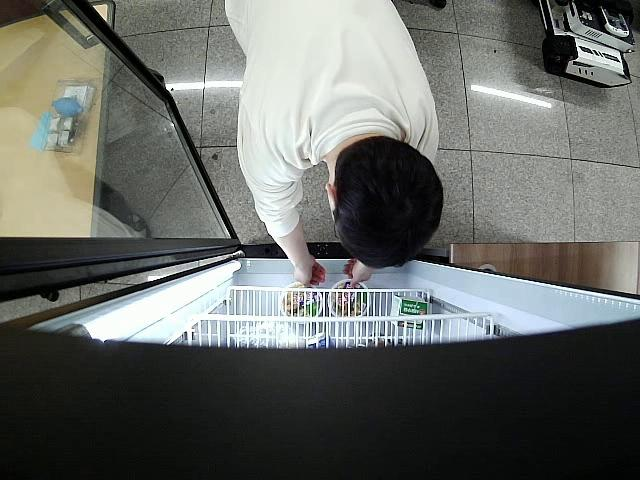00_hand: (292, 253, 329, 287), (344, 261, 374, 289)
09_yukGaeJang: (279, 283, 321, 321), (328, 281, 372, 317)
